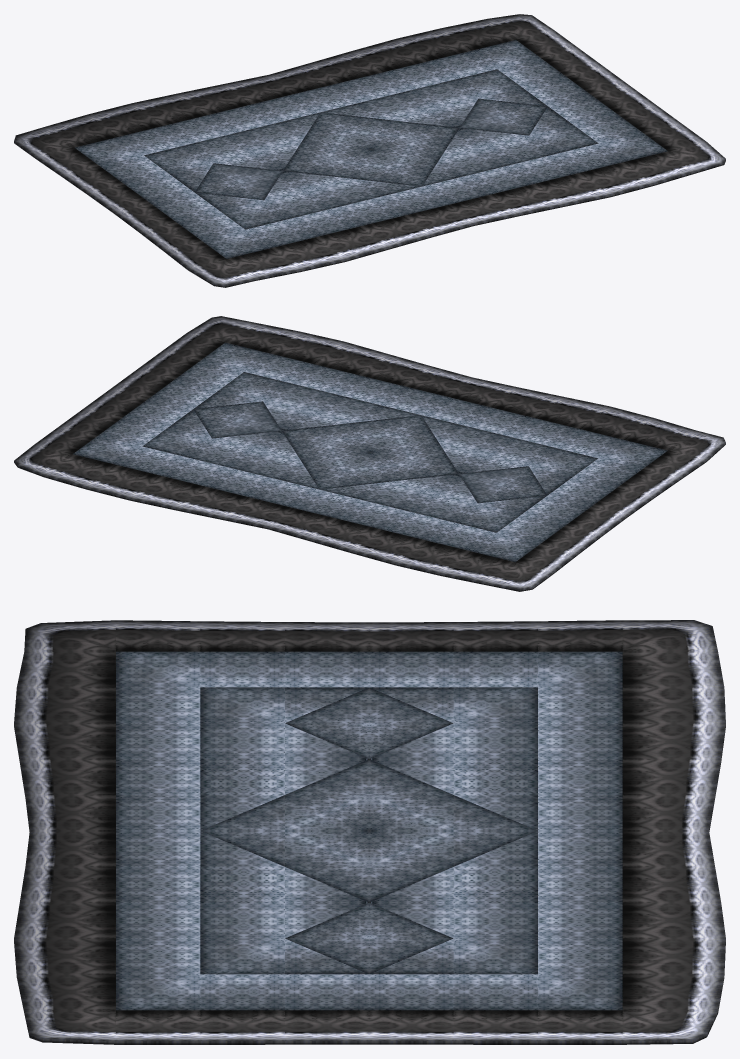
The model's file is GothicCarpet_HD.fbx.
The picture shows the model from 3 angles, top to bottom: view 1: azimuth 30°, elevation 25°; view 2: azimuth 150°, elevation 25°; view 3: azimuth 270°, elevation 25°; orthographic projection. The views are drawn at different scales.
Visible parts, largest first — view 1: GothicCarpet; view 2: GothicCarpet; view 3: GothicCarpet.
Part boxes in pixels (x1,y1,x2,y2): GothicCarpet: [14, 14, 725, 287]; GothicCarpet: [14, 316, 725, 591]; GothicCarpet: [14, 620, 725, 1044].
Bounding box in the file's own units: 2.67 × 0.0101 × 1.91.
